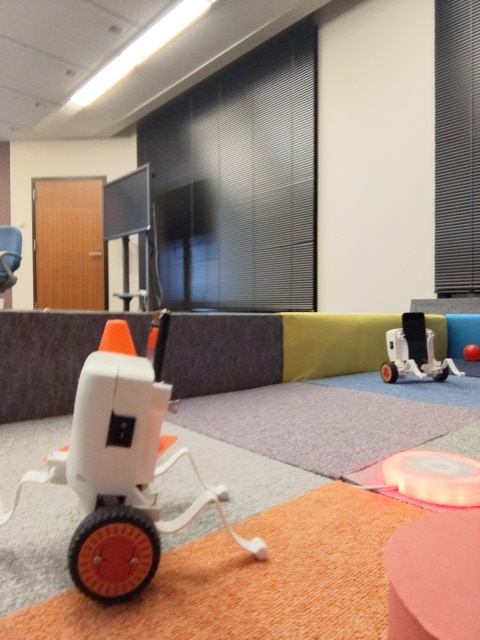br: (1, 305, 277, 607)
f: (380, 306, 466, 387)
r: (378, 441, 480, 507)
